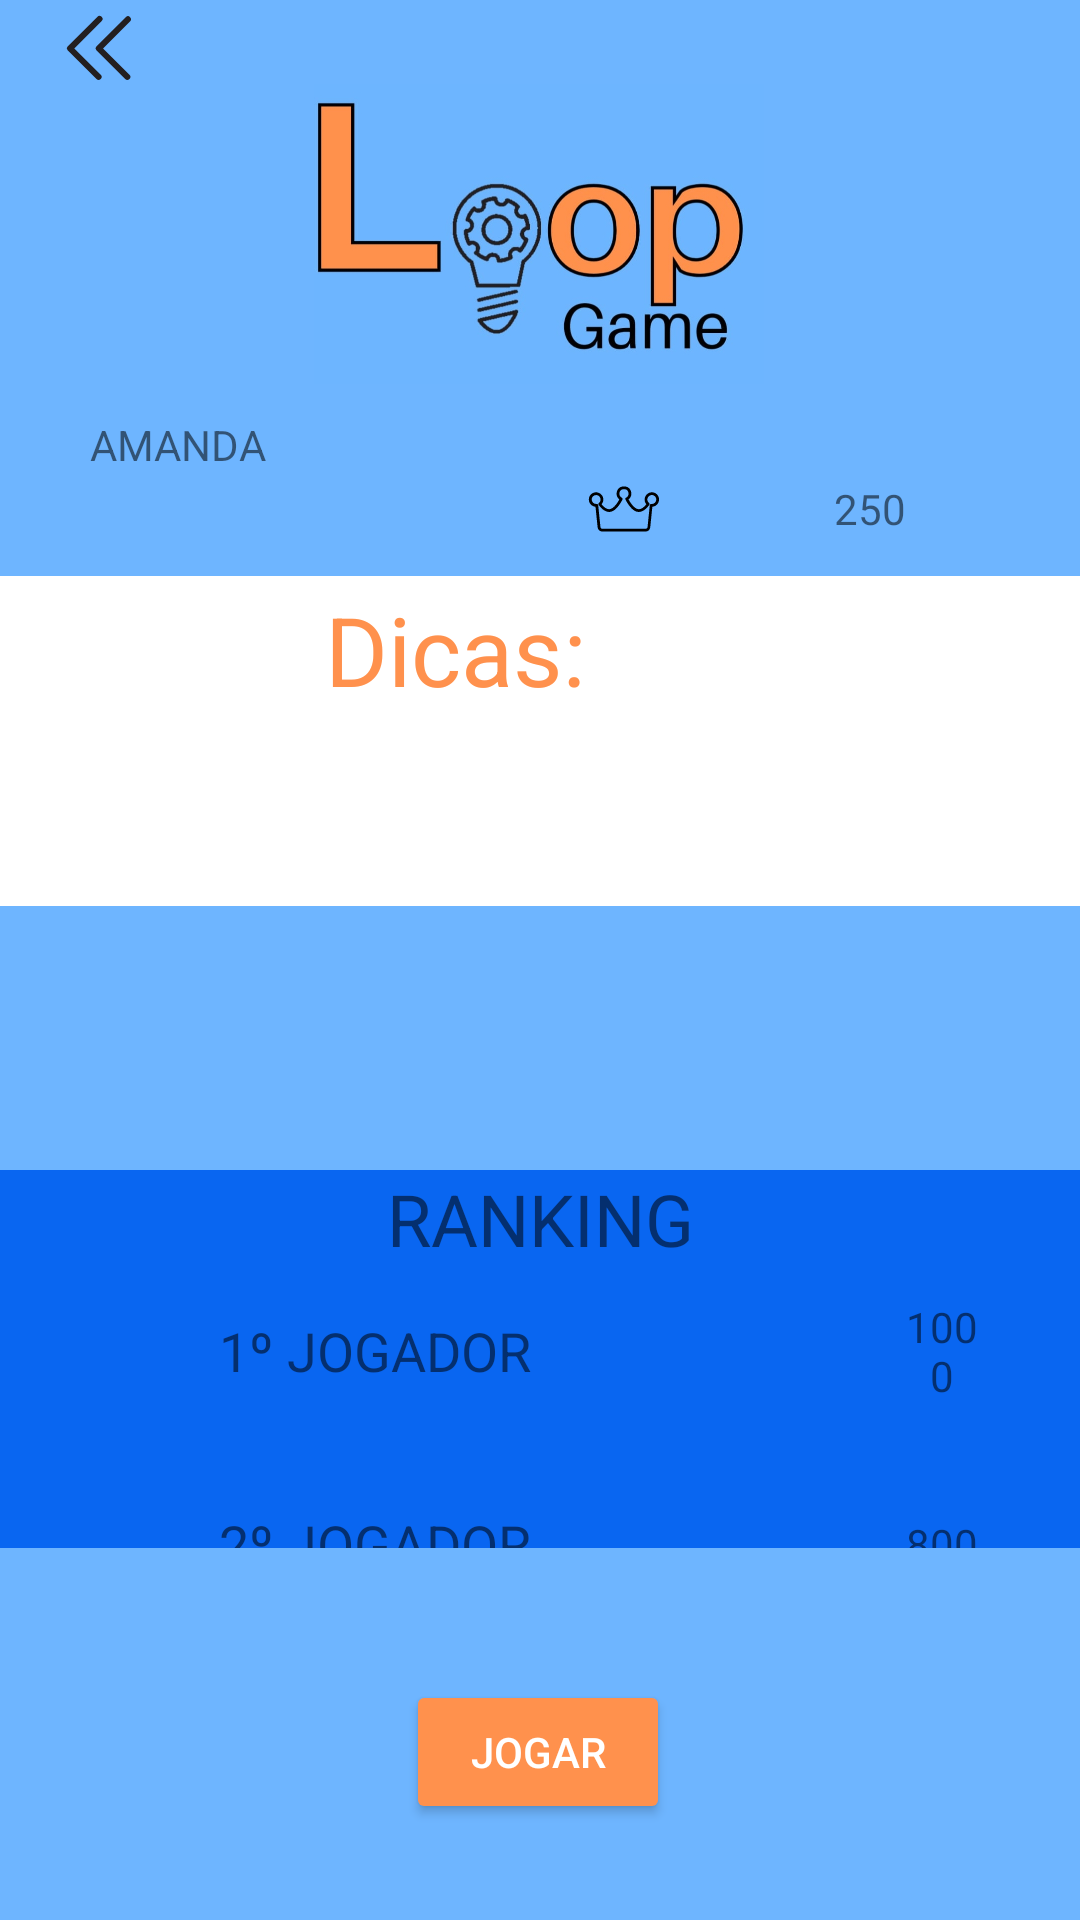

Screen size 1080*1920. Icon name, then its box in pixels as (x1, y1, x2, y2):
back: (66, 15, 131, 80)
crown: (588, 486, 659, 532)
